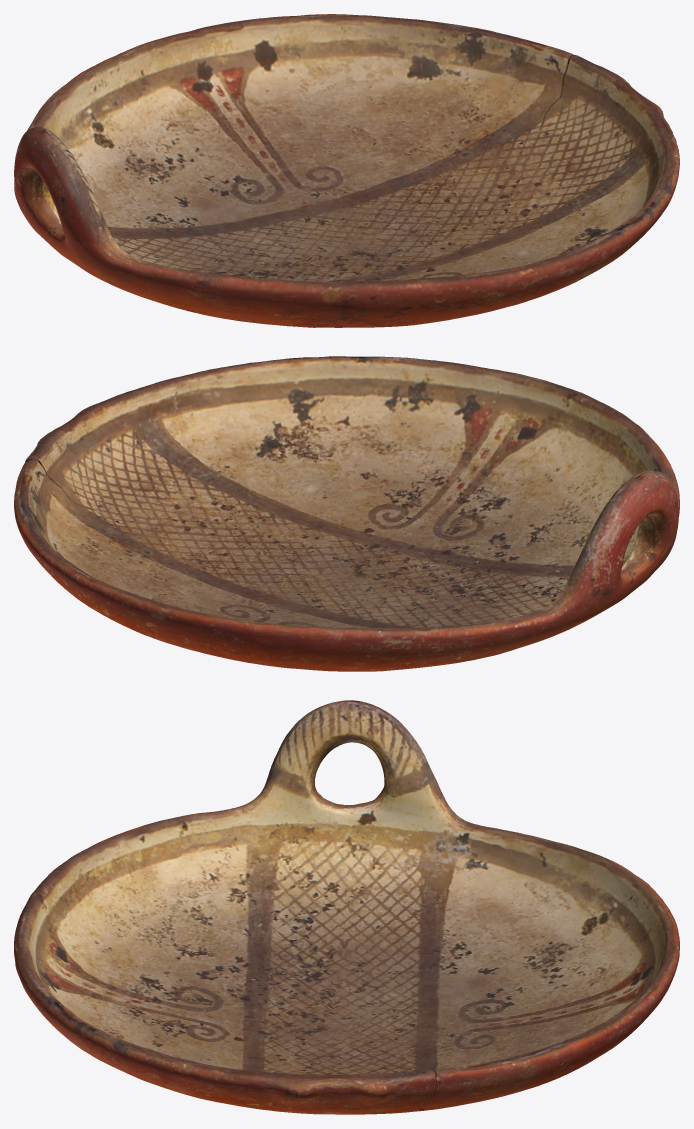
Rendered from Escudilla.glb.
The picture shows the model from 3 angles, top to bottom: view 1: azimuth 30°, elevation 25°; view 2: azimuth 150°, elevation 25°; view 3: azimuth 270°, elevation 25°; orthographic projection.
Visible parts, largest first — view 1: Object_2; view 2: Object_2; view 3: Object_2.
Part boxes in pixels (left/top/right/bottom): Object_2: left=14, top=14, right=679, bottom=327; Object_2: left=14, top=356, right=679, bottom=671; Object_2: left=14, top=700, right=679, bottom=1114.
Bounding box in the file's own units: 207 × 65.89 × 198.
Materials: 1 (1 with a texture image).
